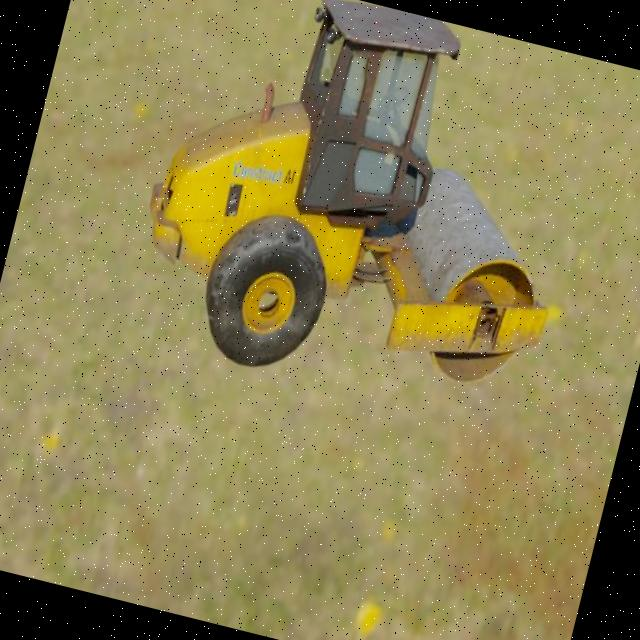Roller: (114, 0, 610, 434)
